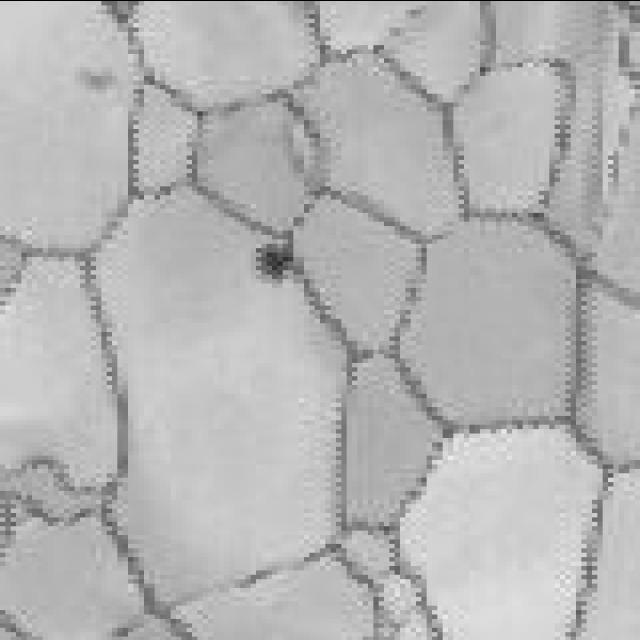good_void: (254, 236, 296, 287)
